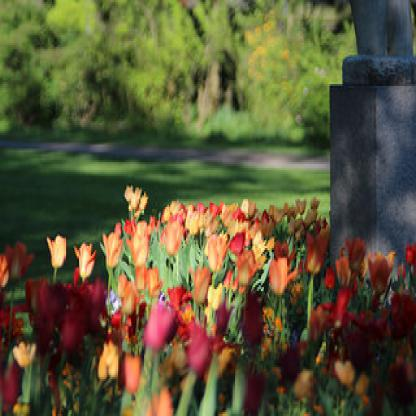TULIP: (23, 177, 409, 401)
